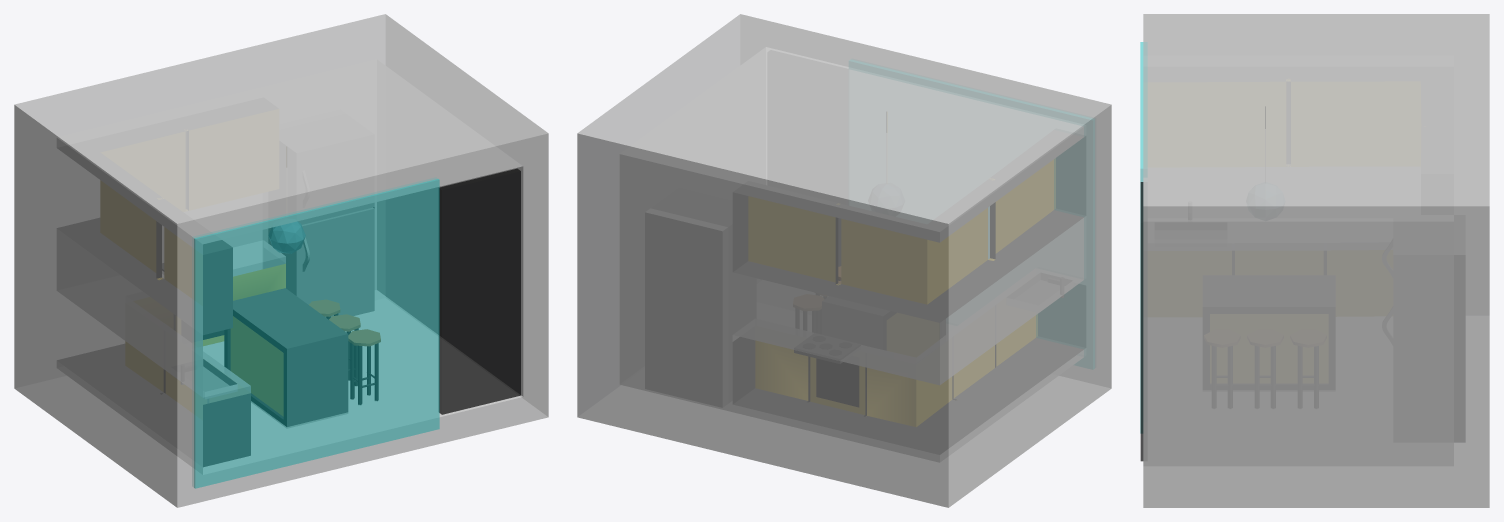
File: home_o.gltf
3 views of the same model, side by side, from view 1: azimuth 30°, elevation 25°; view 2: azimuth 150°, elevation 25°; view 3: azimuth 270°, elevation 25° (orthographic). The views are drawn at different scales.
Visible parts, largest first — view 1: buffer-0-mesh-0_0, Wall, buffer-0-mesh-0_3_3, Pane, buffer-0-mesh-0_2_2, buffer-0-mesh-0_4_4, buffer-0-mesh-0_1_1, buffer-0-mesh-0_5_5, buffer-0-mesh-0_6_6; view 2: buffer-0-mesh-0_0, buffer-0-mesh-0_2_2, buffer-0-mesh-0_3_3, buffer-0-mesh-0_4_4, buffer-0-mesh-0_1_1; view 3: buffer-0-mesh-0_0, buffer-0-mesh-0_4_4, Pane, Wall.
Boxes of the visible parts, x1,y1,x2,y2 form: buffer-0-mesh-0_0: (14, 14, 548, 507); Wall: (194, 179, 439, 488); buffer-0-mesh-0_3_3: (57, 218, 348, 467); Pane: (439, 168, 520, 414); buffer-0-mesh-0_2_2: (100, 180, 285, 419); buffer-0-mesh-0_4_4: (203, 147, 374, 398); buffer-0-mesh-0_1_1: (156, 221, 378, 427); buffer-0-mesh-0_5_5: (309, 299, 380, 346); buffer-0-mesh-0_6_6: (268, 221, 305, 253); buffer-0-mesh-0_0: (577, 14, 1111, 507); buffer-0-mesh-0_2_2: (748, 159, 1055, 426); buffer-0-mesh-0_3_3: (733, 137, 1085, 454); buffer-0-mesh-0_4_4: (645, 208, 728, 407); buffer-0-mesh-0_1_1: (808, 202, 995, 416); buffer-0-mesh-0_0: (1143, 14, 1489, 507); buffer-0-mesh-0_4_4: (1454, 215, 1465, 442); Pane: (1140, 182, 1143, 461); Wall: (1140, 42, 1143, 432).
Size of the model in its own units: 62.93 by 45.99 by 48.26.
